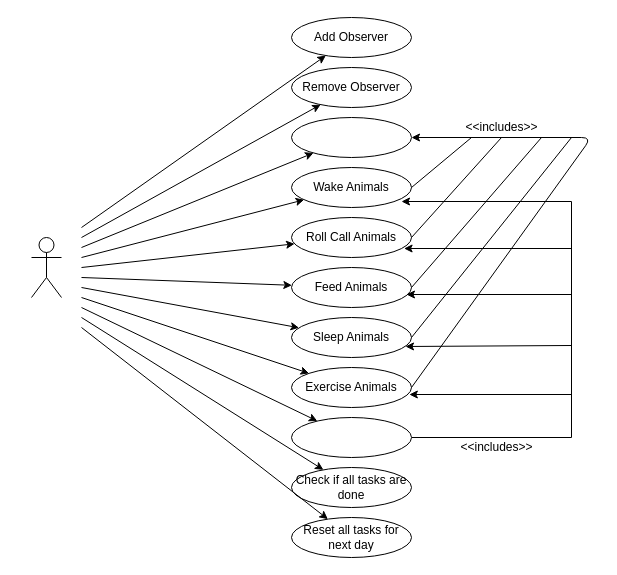
Image size: 617x575. Some labels were removed from this diagram. Each missing label, with the centre of its shape:
"Notify Observer" belongs at point (351, 137).
"Perform all zoo tasks" belongs at point (351, 437).
"ZooKeeper" belongs at point (46, 267).
